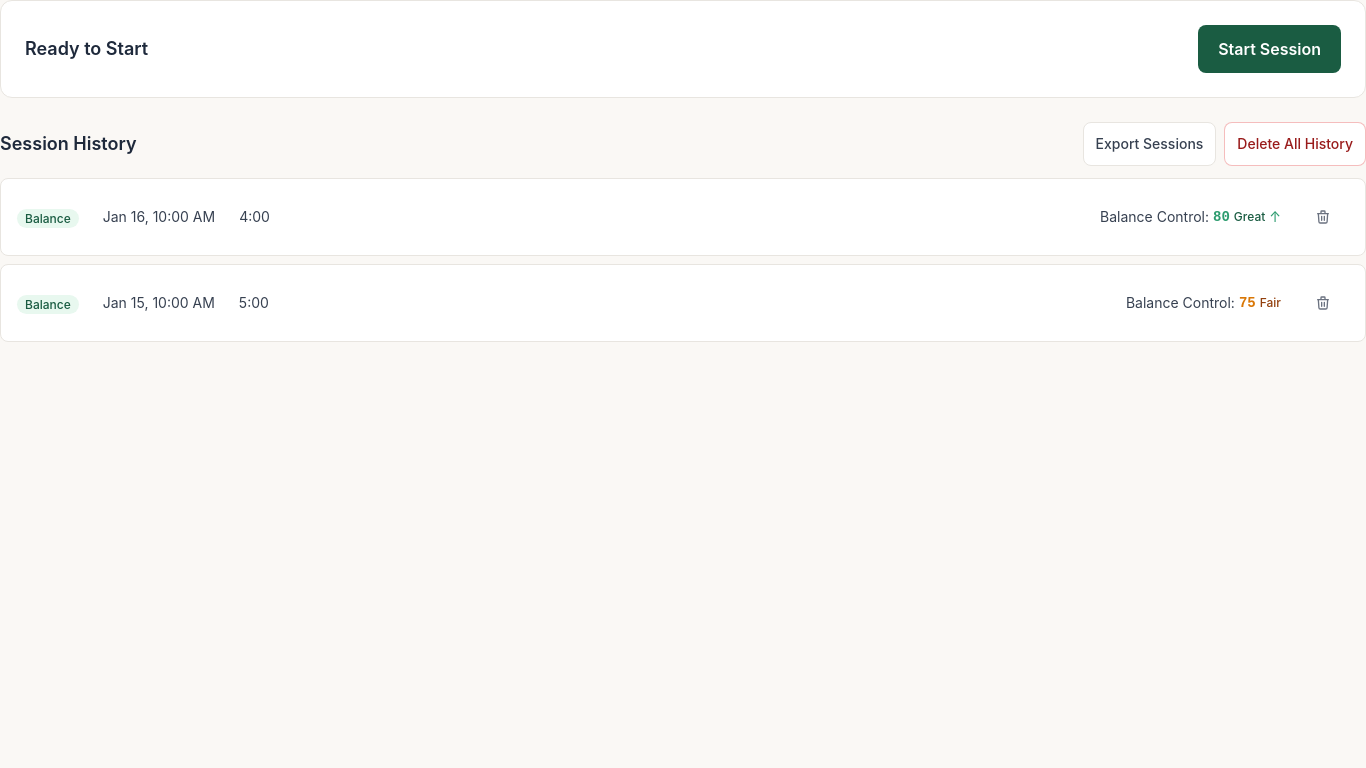
SessionLog - export and delete confirmation › confirmation dialog appears when delete is clicked
Click the button named "Delete session" at (1327, 217), box [1305, 195, 1349, 239]
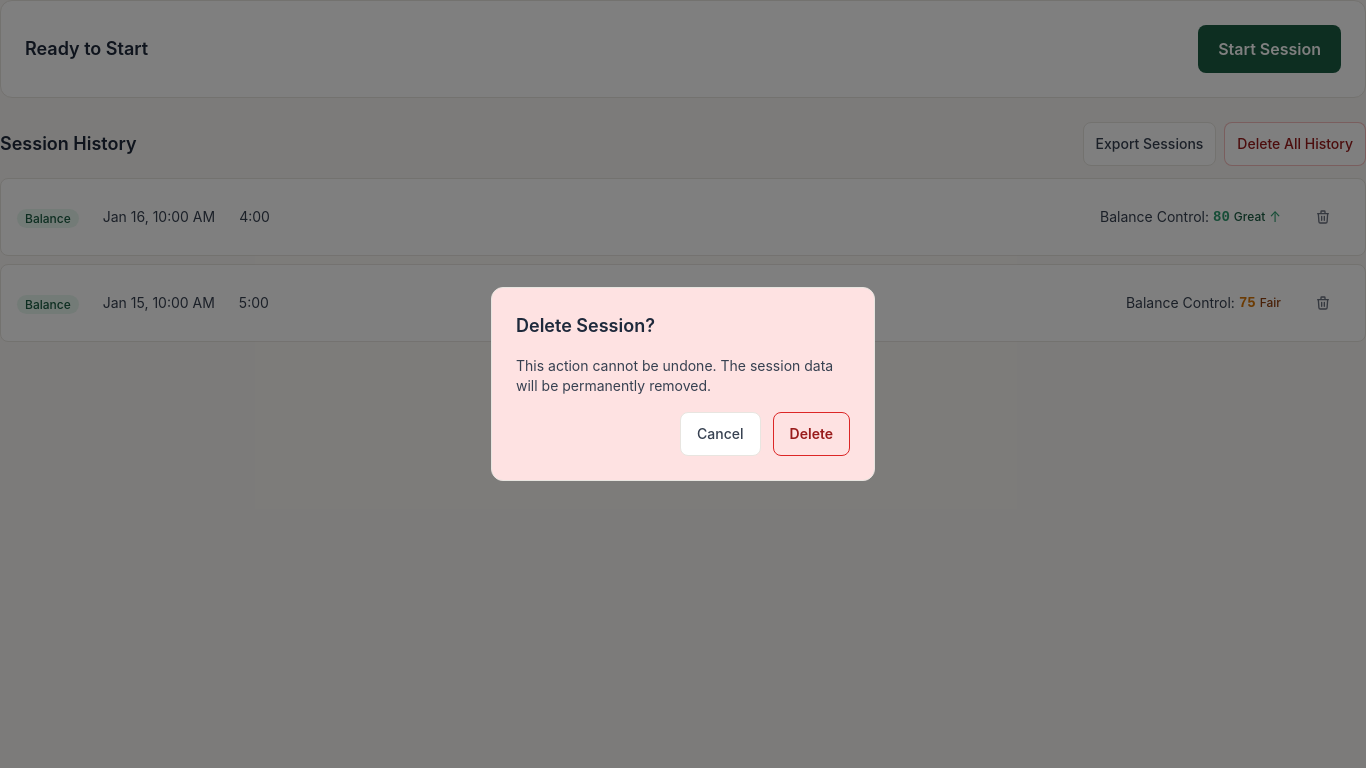
Check: the heading "Delete Session?" is shown, box [516, 315, 655, 336]
Check: the text "This action cannot be undone" is shown, box [516, 357, 833, 394]
Check: the button "Cancel" is shown, box [680, 412, 761, 456]
